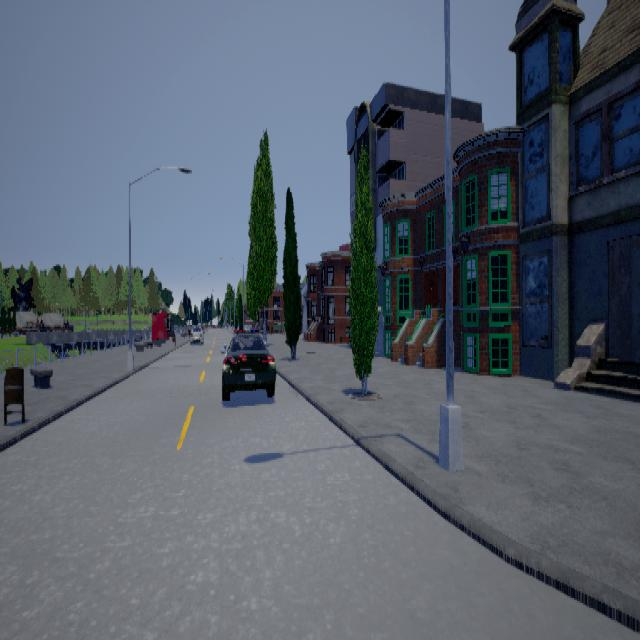vehicle: (219, 329, 275, 399), (186, 322, 204, 344)
